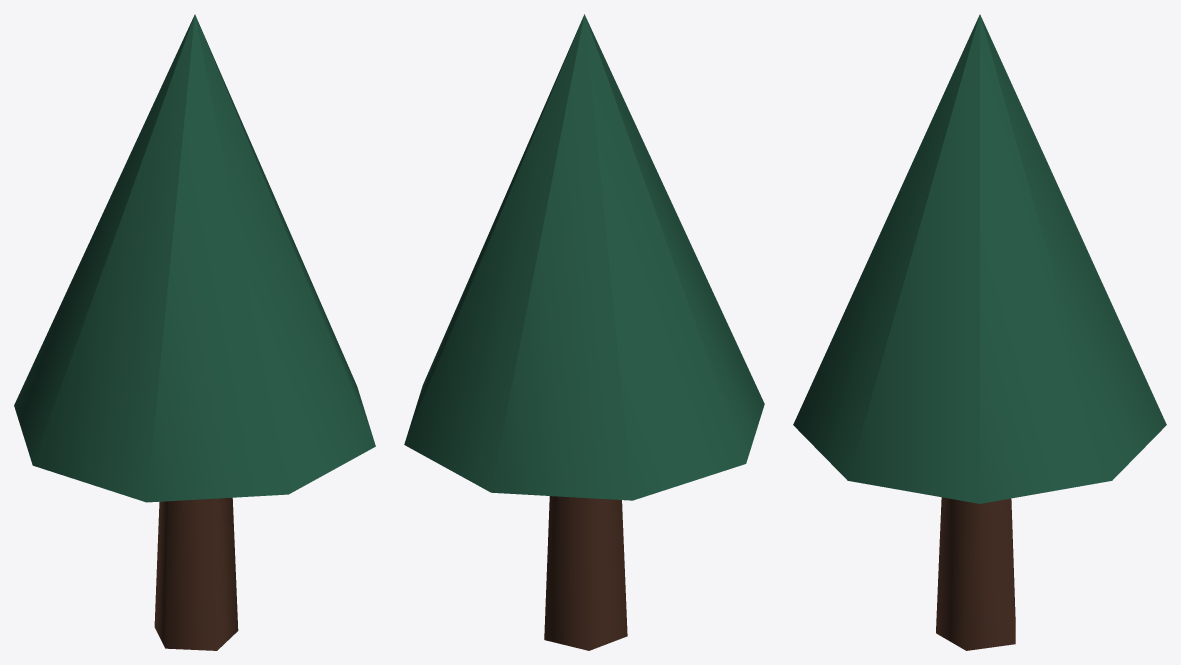
File: ledger-pine-lod2.glb
3 views of the same model, side by side, from view 1: azimuth 30°, elevation 25°; view 2: azimuth 150°, elevation 25°; view 3: azimuth 270°, elevation 25° (orthographic).
Visible parts, largest first — view 1: MESH_ledger_pine_foliage, MESH_ledger_pine_bark; view 2: MESH_ledger_pine_foliage, MESH_ledger_pine_bark; view 3: MESH_ledger_pine_foliage, MESH_ledger_pine_bark.
Part boxes in pixels (bbox=[...]): MESH_ledger_pine_foliage: bbox=[14, 14, 375, 502]; MESH_ledger_pine_bark: bbox=[154, 497, 238, 650]; MESH_ledger_pine_foliage: bbox=[404, 14, 764, 500]; MESH_ledger_pine_bark: bbox=[544, 496, 627, 650]; MESH_ledger_pine_foliage: bbox=[793, 14, 1166, 503]; MESH_ledger_pine_bark: bbox=[936, 497, 1015, 650].
Size of the model in its own units: 6.1 by 11.15 by 6.1.
